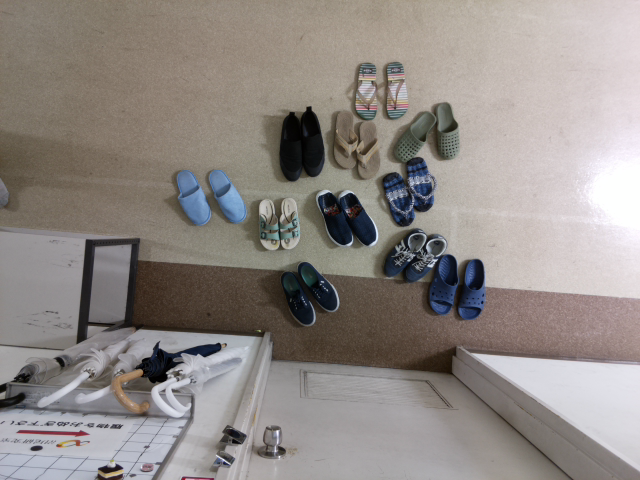Copy of Copy of Copy of Copy of Copy of Copy of Copy of sandal: (405, 157, 437, 212)
Copy of Copy of Copy of Copy of Copy of Copy of Copy of shoes: (279, 269, 315, 326)
Copy of Copy of Copy of Copy of Copy of Copy of sandal: (381, 171, 415, 226)
Copy of Copy of Copy of Copy of Copy of Copy of shoes: (296, 260, 339, 312)
Copy of Copy of Copy of Copy of Copy of sandal: (257, 199, 280, 251)
Copy of Copy of Copy of Copy of Copy of shoes: (280, 110, 302, 182)
Copy of Copy of Copy of Copy of Copy of slipper: (392, 110, 436, 163)
Copy of Copy of Copy of Copy of sandal: (278, 197, 300, 249)
Copy of Copy of Copy of Copy of shoes: (300, 106, 326, 175)
Copy of Copy of Copy of Copy of slipper: (435, 101, 460, 160)
Copy of Copy of Copy of sandal: (356, 120, 380, 180)
Copy of Copy of Copy of shoes: (337, 189, 377, 246)
Copy of Copy of Copy of slipper: (456, 258, 485, 320)
Copy of Copy of sandal: (332, 110, 358, 169)
Copy of Copy of shoes: (316, 189, 352, 247)
Copy of Copy of slipper: (426, 253, 459, 315)
Copy of sandal: (384, 60, 408, 119)
Copy of shoes: (400, 232, 447, 281)
Copy of slipper: (207, 169, 246, 223)
sandal: (355, 61, 379, 120)
shoes: (381, 227, 426, 278)
slipper: (176, 169, 212, 226)
